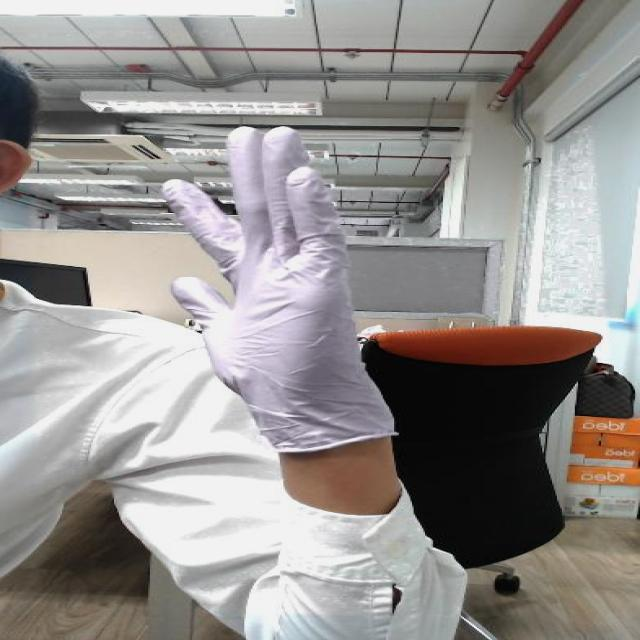glove: (144, 105, 403, 374)
